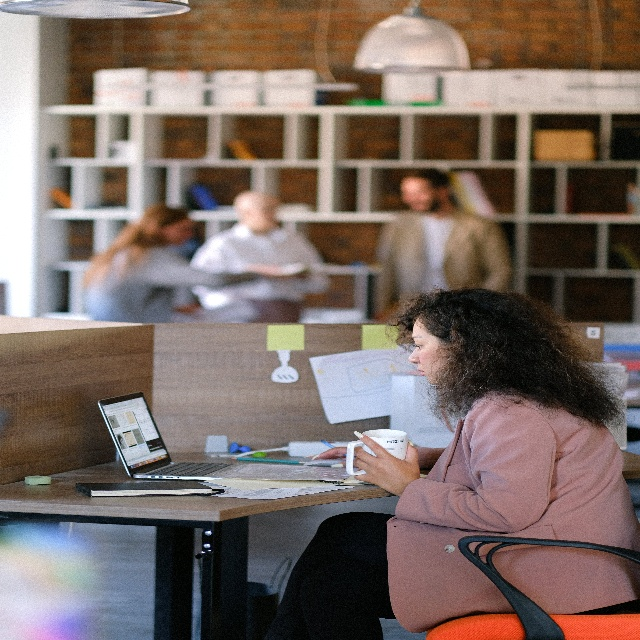Sin_guantes: (349, 427, 421, 505), (313, 443, 365, 470)
